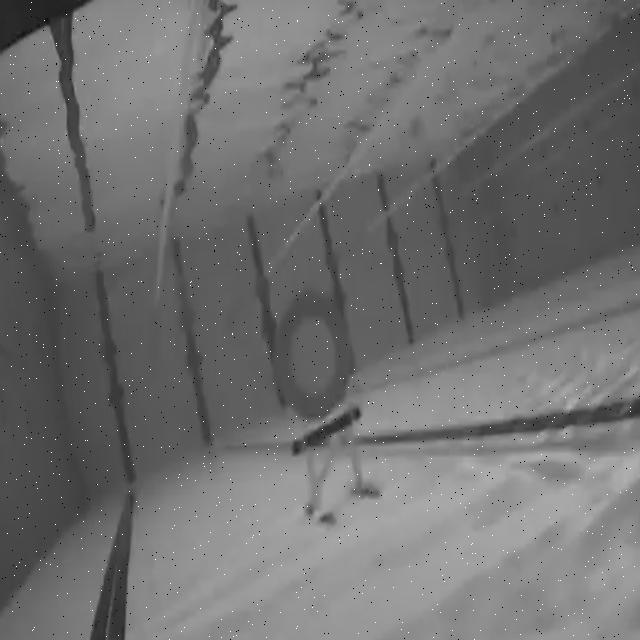Circle: (273, 291, 350, 416)
